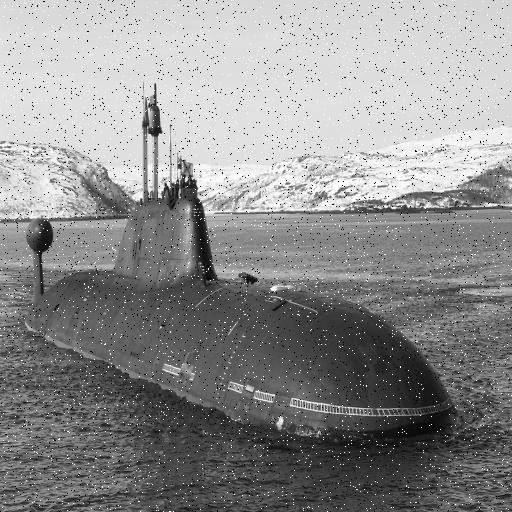submarine: (19, 80, 468, 451)
